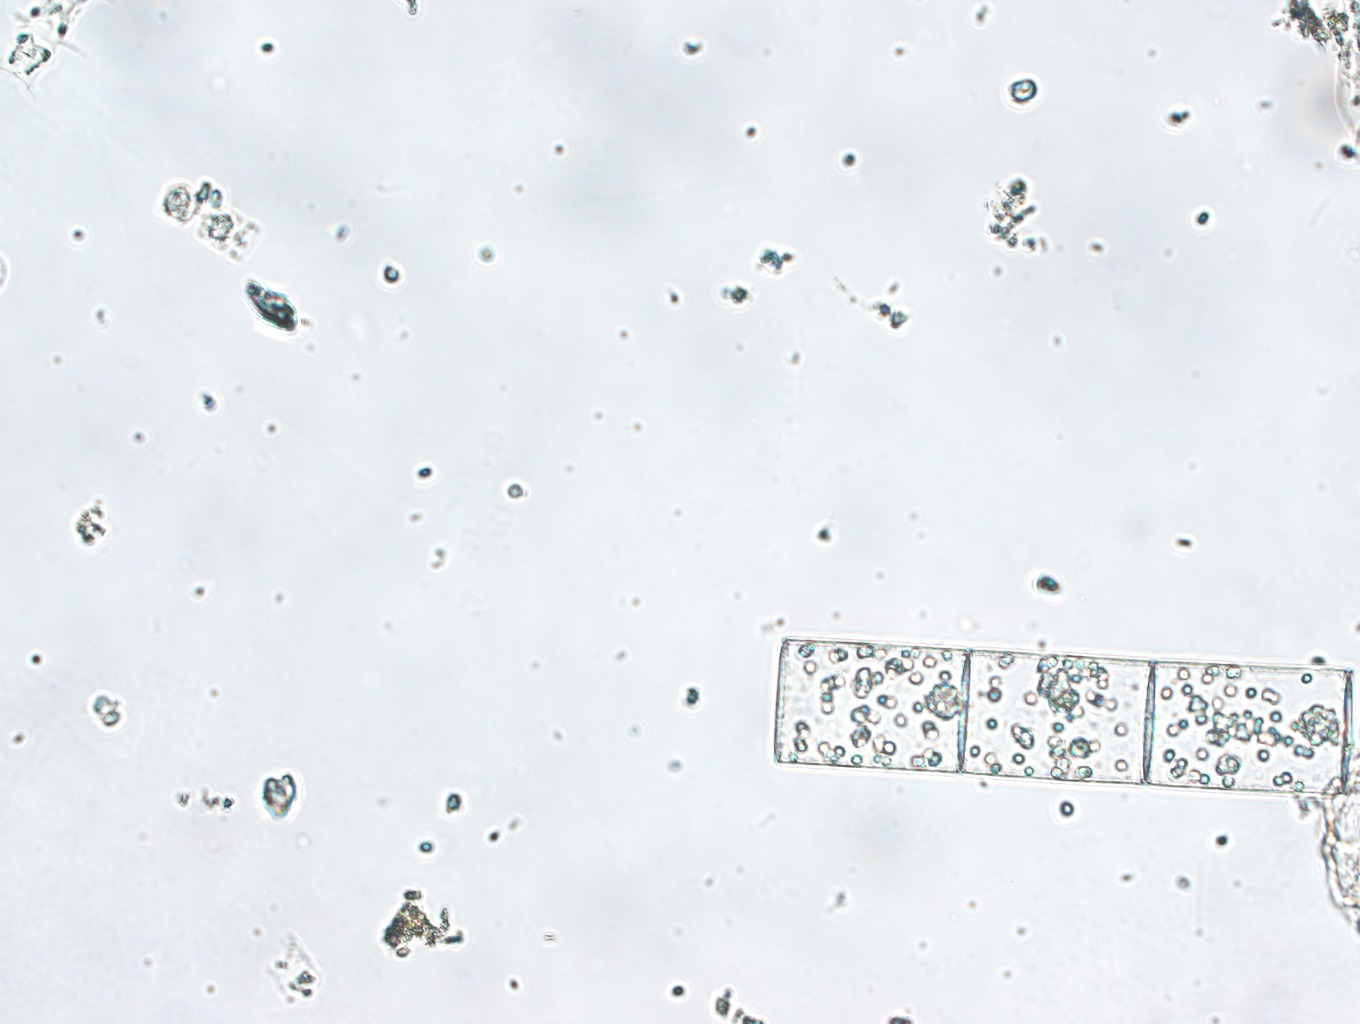guinardia flaccida: (762, 616, 1357, 805)
